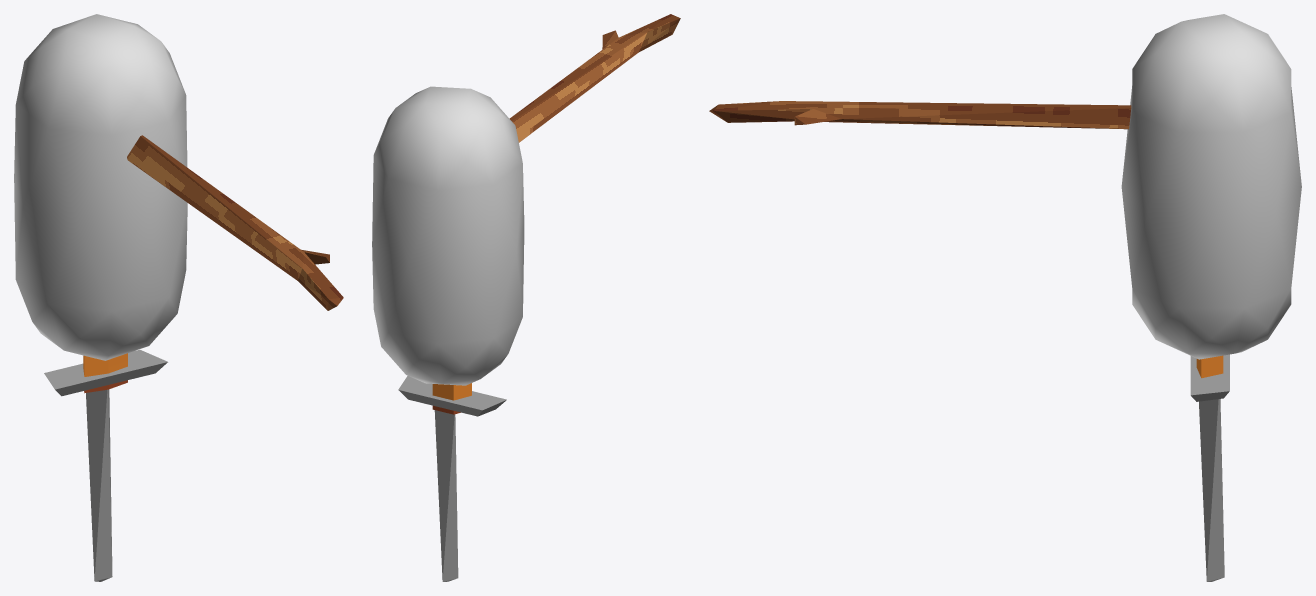
The model's file is player_model.fbx.
3 views of the same model, side by side, from view 1: azimuth 30°, elevation 25°; view 2: azimuth 150°, elevation 25°; view 3: azimuth 270°, elevation 25° (orthographic). The views are drawn at different scales.
Parts seen in each view (by area): view 1: sphere, cylinder_2, cylinder, cuboid, cylinder_1; view 2: sphere, cylinder_2, cylinder, cuboid, cylinder_1; view 3: sphere, cylinder_2, cylinder, cuboid.
Part boxes in pixels (box(x1,y1,x2,y2)): sphere: box(14, 14, 187, 360); cylinder_2: box(127, 135, 343, 310); cylinder: box(86, 389, 112, 581); cuboid: box(44, 349, 167, 396); cylinder_1: box(83, 353, 127, 393); sphere: box(372, 86, 524, 385); cylinder_2: box(509, 14, 680, 142); cylinder: box(434, 410, 458, 581); cuboid: box(398, 376, 506, 416); cylinder_1: box(432, 383, 471, 414); sphere: box(1121, 14, 1301, 359); cylinder_2: box(709, 101, 1131, 129); cylinder: box(1199, 399, 1224, 581); cuboid: box(1190, 354, 1229, 401).
Size of the model in its own units: 180 by 612 by 592.
